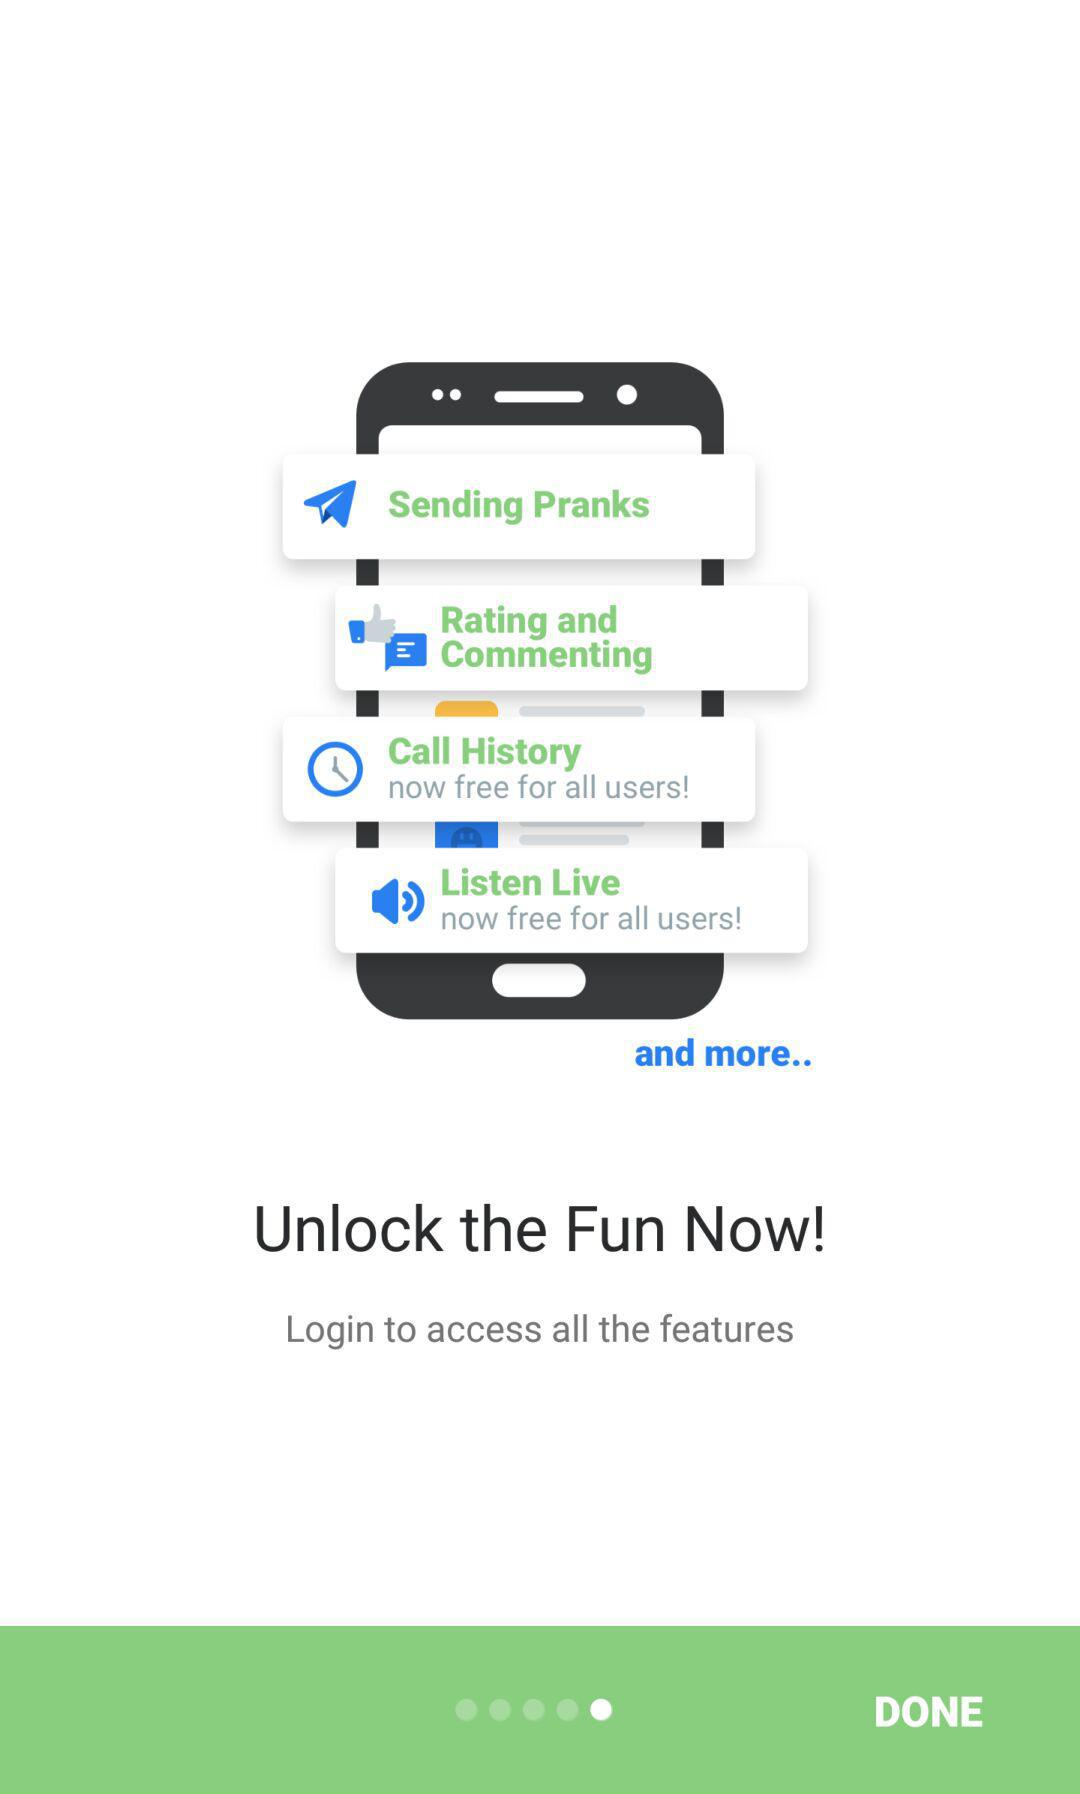Image: (281, 361, 816, 1076)
PageIndicator: (454, 1697, 615, 1724)
Text: (256, 1201, 826, 1255), (287, 1312, 796, 1352), (875, 1695, 983, 1729)
